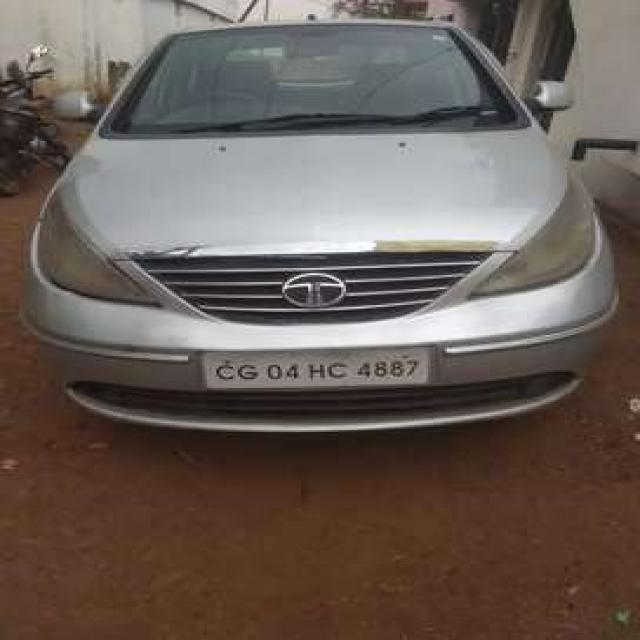Plate: (201, 345, 427, 387)
